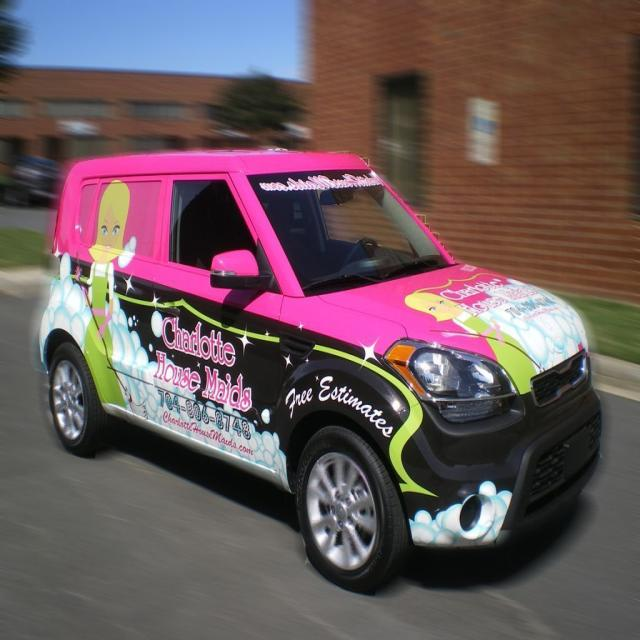car: (18, 139, 600, 584)
